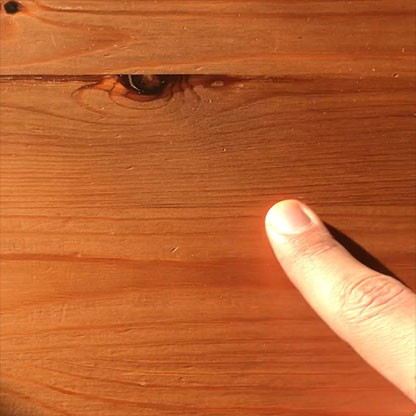fingertip: (263, 188, 324, 253)
